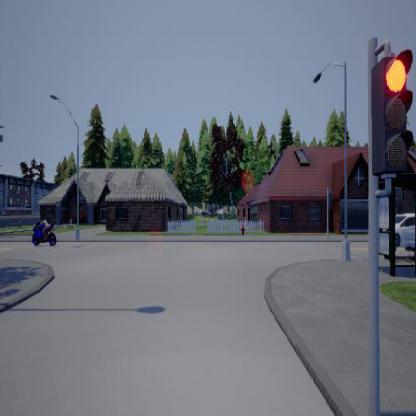motobike: (31, 221, 57, 245)
traffic_light_red: (370, 38, 413, 197)
vehicle: (395, 212, 414, 246)
